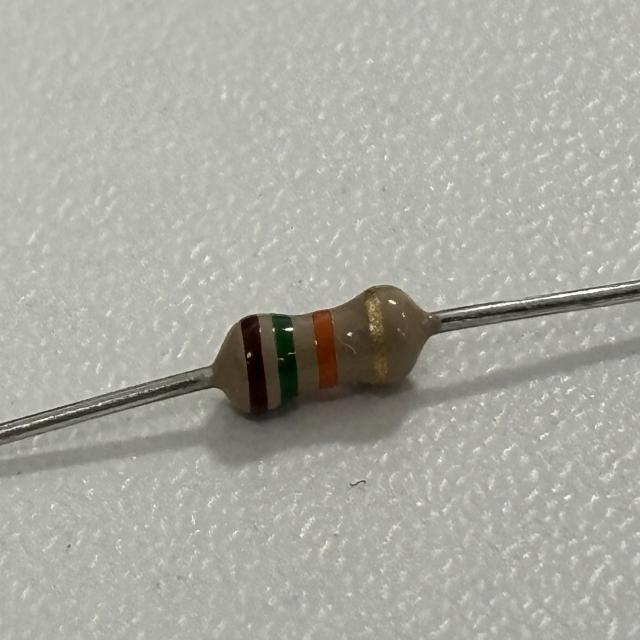resistor: (219, 284, 419, 419)
